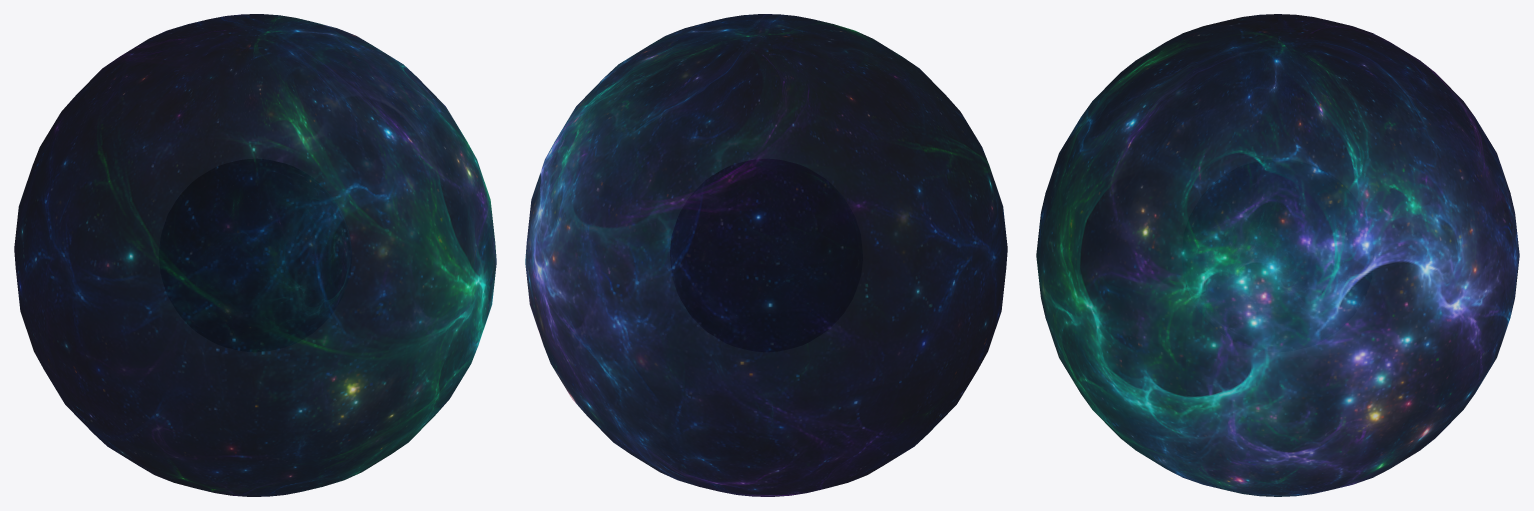
Rendered from gedankenpalast_cosmos.glb.
3 renders of one model, left to right at view 1: azimuth 30°, elevation 25°; view 2: azimuth 150°, elevation 25°; view 3: azimuth 270°, elevation 25°, orthographic.
Visible parts, largest first — view 1: NebulaOuter, NebulaInner; view 2: NebulaOuter, NebulaInner; view 3: NebulaOuter, NebulaInner.
Part boxes in pixels (bbox=[...]): NebulaOuter: bbox=[14, 14, 496, 496]; NebulaInner: bbox=[159, 159, 351, 351]; NebulaOuter: bbox=[525, 14, 1007, 496]; NebulaInner: bbox=[670, 159, 862, 351]; NebulaOuter: bbox=[1036, 14, 1519, 496]; NebulaInner: bbox=[1182, 159, 1373, 351].
Size of the model in its own units: 18000 by 18000 by 18000.
1 material, 1 textured.
